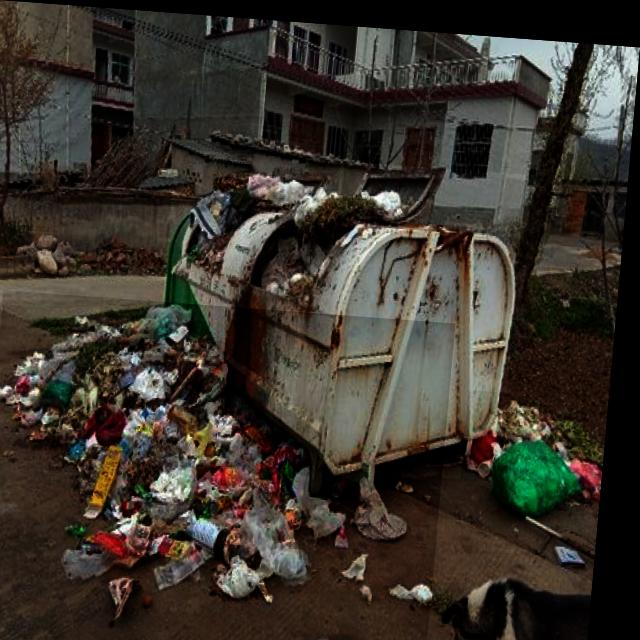garbage: (0, 290, 461, 640), (464, 382, 614, 554)
overflow: (158, 146, 529, 473)
